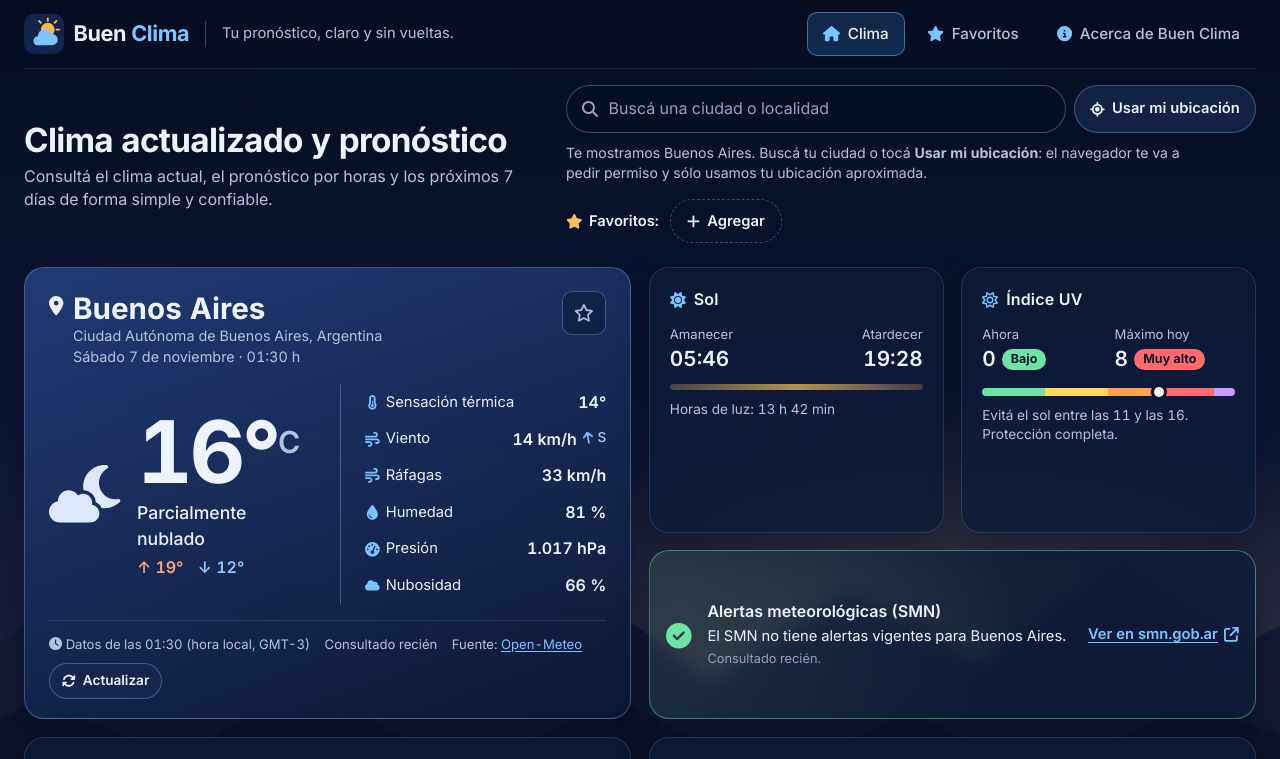
Test: App › buscar y cambiar de ciudad consulta por coordenadas y recuerda la elección
The width and height of the screenshot is (1280, 759).
expect the heading "Buenos Aires" is shown: met, box [73, 290, 266, 326]
In the dropdown: (816, 109) [566, 85, 1066, 133], type "Córdoba"
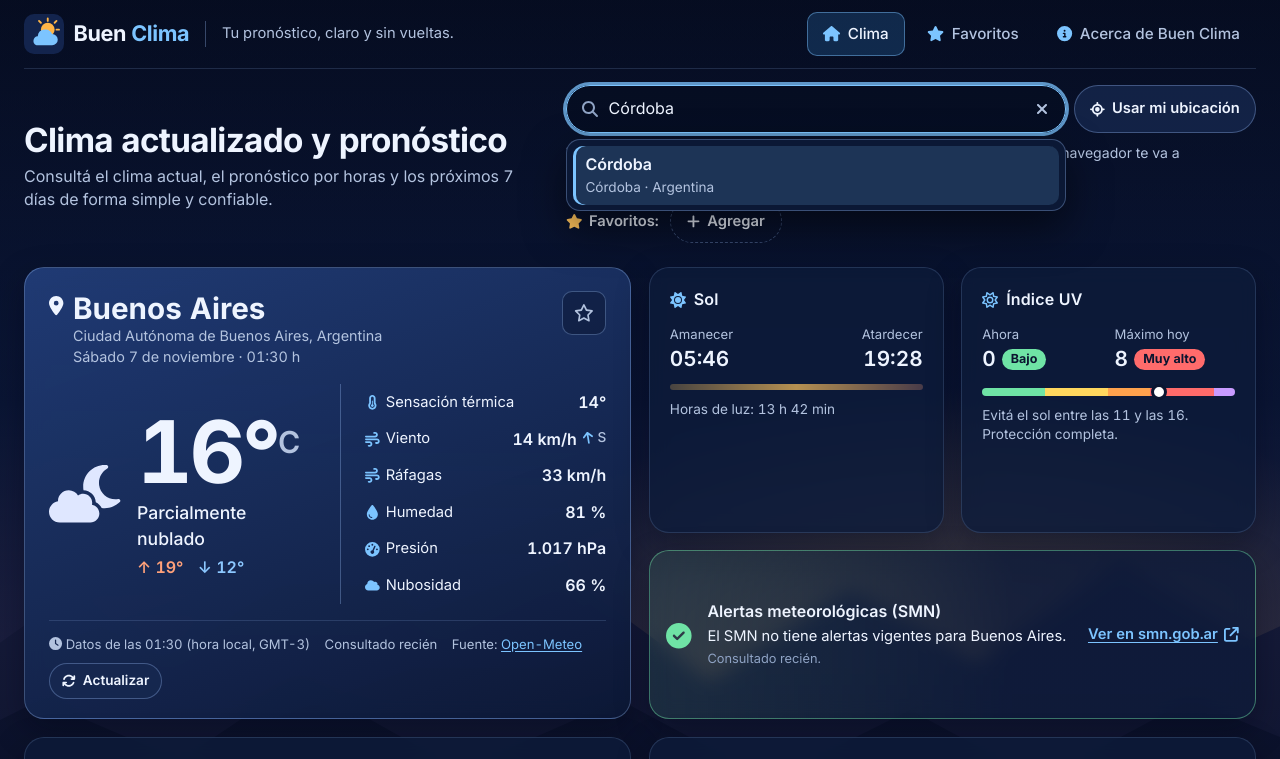
Click the option "Córdoba Córdoba · Argentina": (619, 164) [573, 146, 1059, 205]
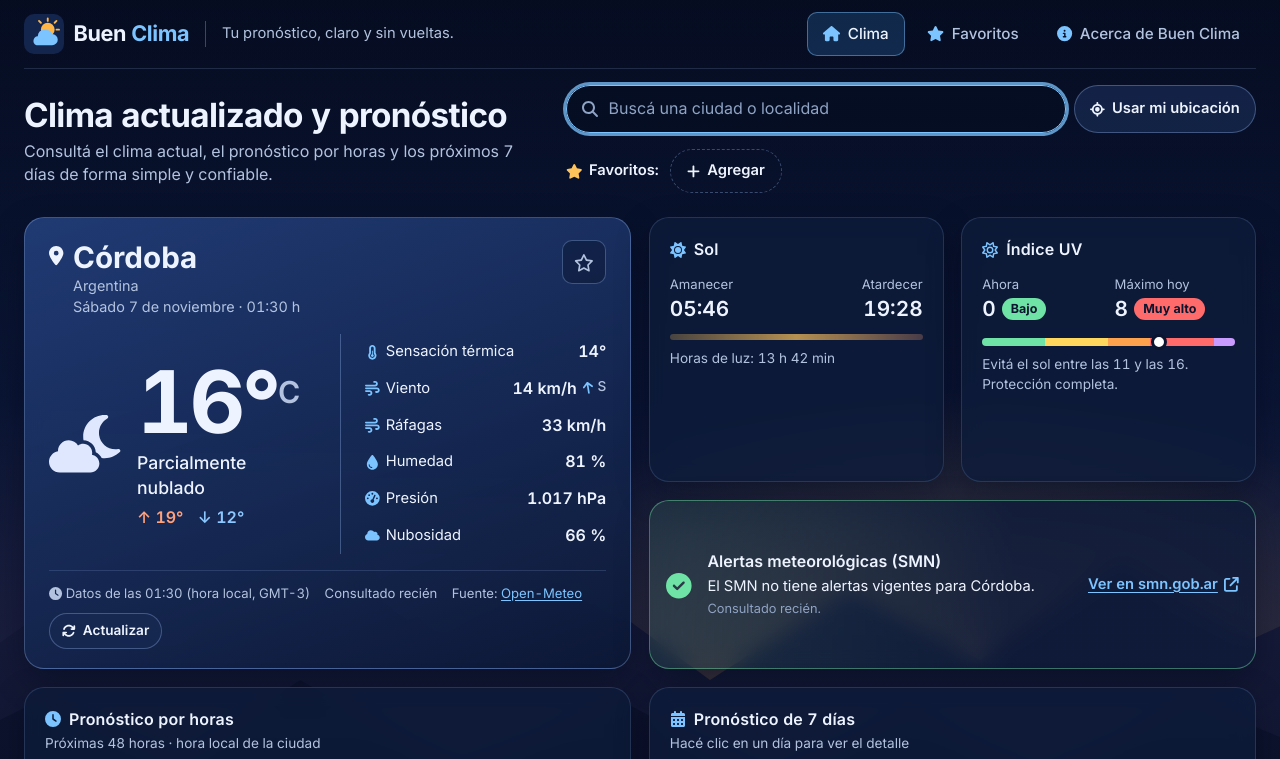
expect the heading "Córdoba" is shown: met, box [73, 239, 197, 275]
